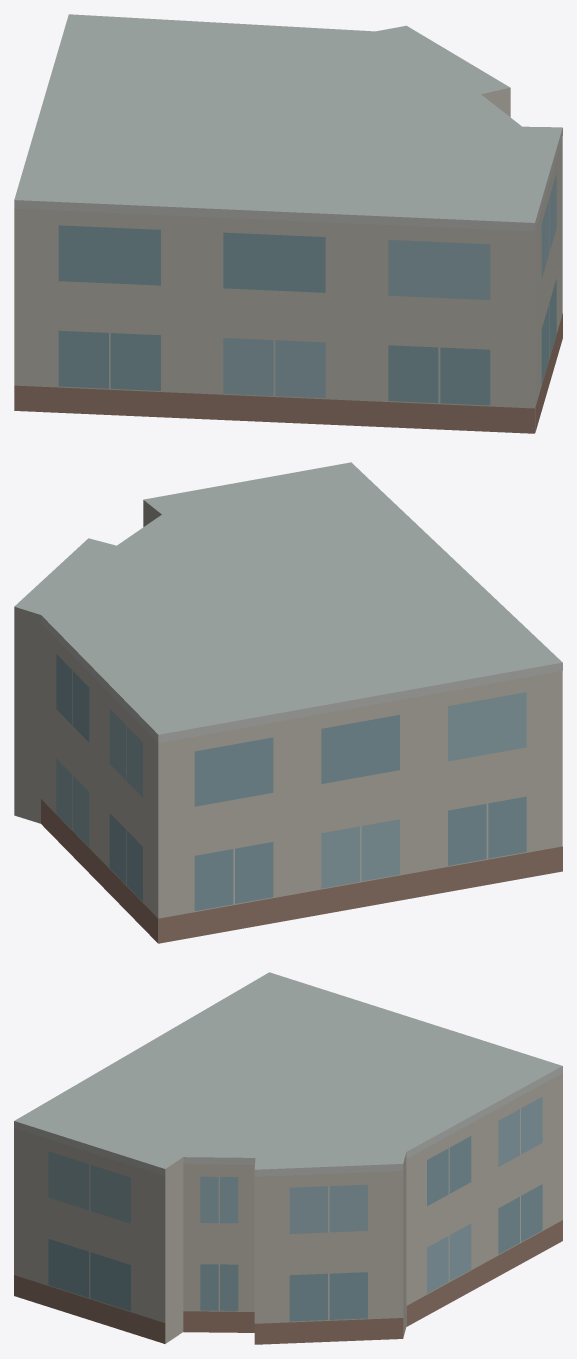
Rendered from survey-upis-32842892.glb.
The picture shows the model from 3 angles, top to bottom: view 1: azimuth 30°, elevation 25°; view 2: azimuth 150°, elevation 25°; view 3: azimuth 270°, elevation 25°; orthographic projection. The views are drawn at different scales.
Parts seen in each view (by area): view 1: survey-upis-32842892.tmp; view 2: survey-upis-32842892.tmp; view 3: survey-upis-32842892.tmp.
Part boxes in pixels (x1,y1,x2,y2): survey-upis-32842892.tmp: [14, 14, 562, 433]; survey-upis-32842892.tmp: [14, 462, 562, 943]; survey-upis-32842892.tmp: [14, 972, 562, 1344].
Bounding box in the file's own units: 14.78 × 6.1 × 17.34.
